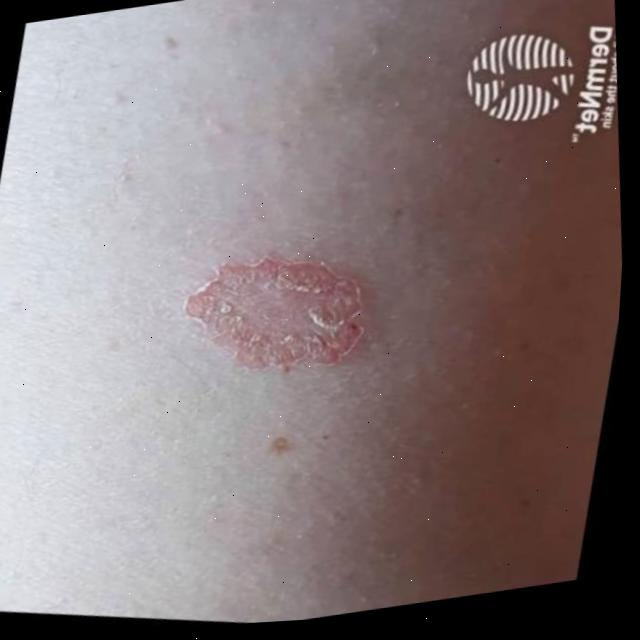Eczema: (171, 207, 395, 380)
